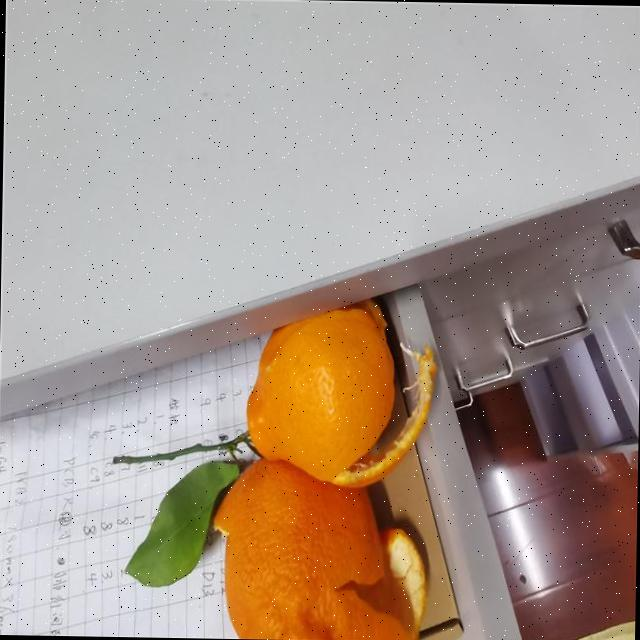orange-peel: (208, 456, 428, 640), (243, 296, 398, 482)
